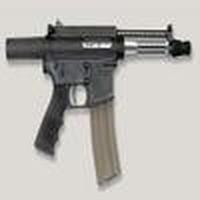gun: (1, 14, 192, 183)
